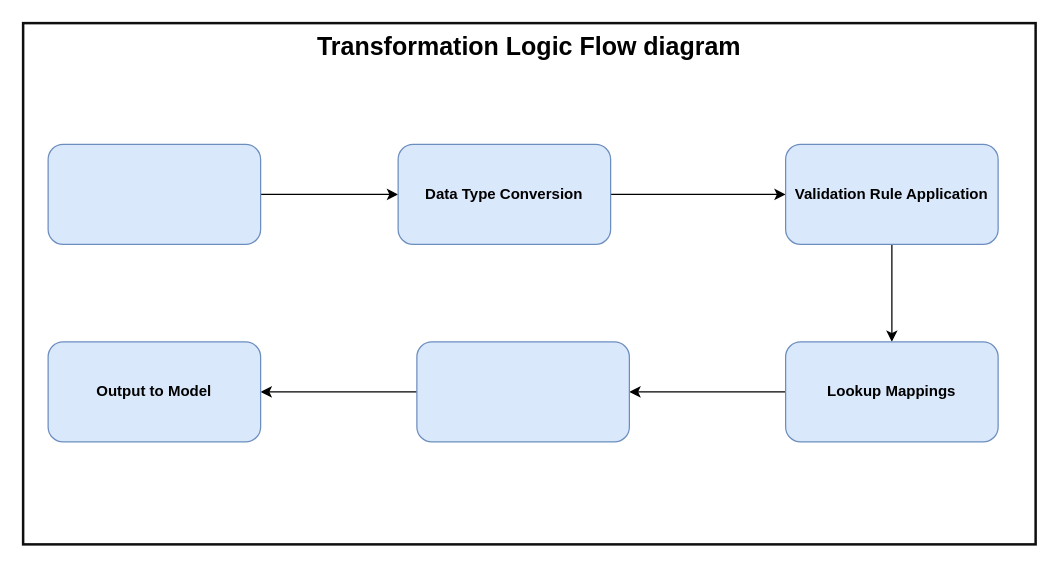
This 1058x566 diagram has some shape labels left out. Each missing label, with the centre of its shape:
"Error Flagging" belongs at point (522, 391).
"Source Load" belongs at point (154, 193).
